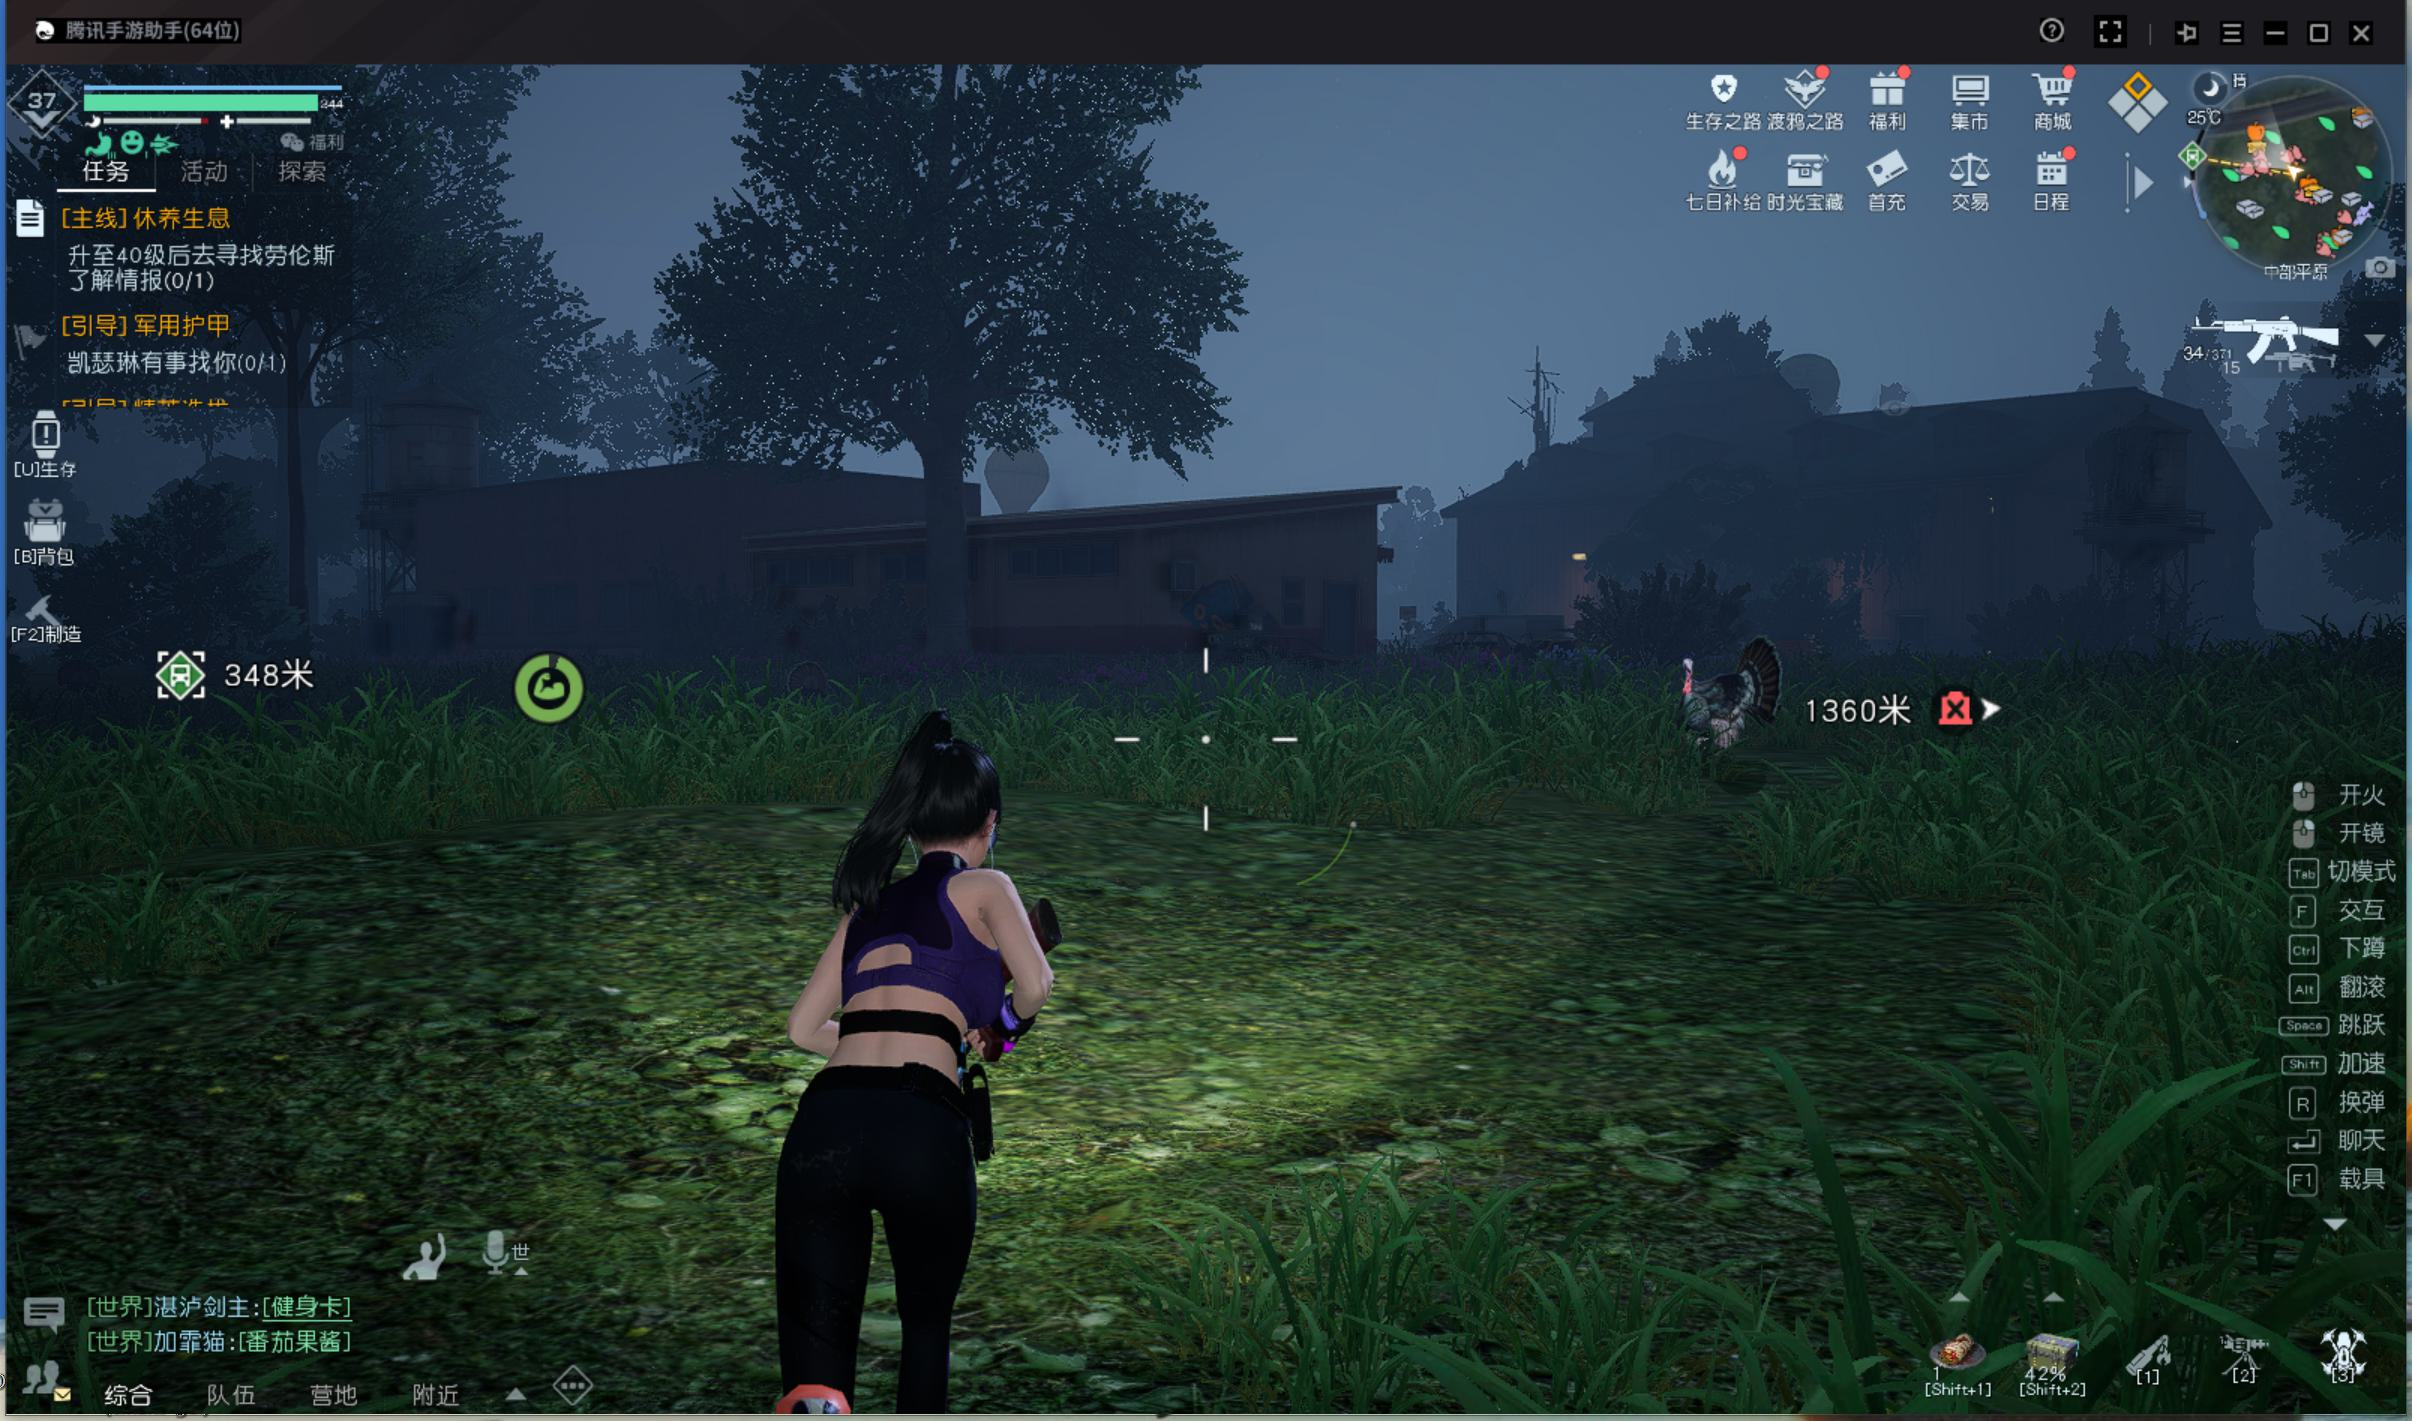tree: (917, 462, 996, 677)
